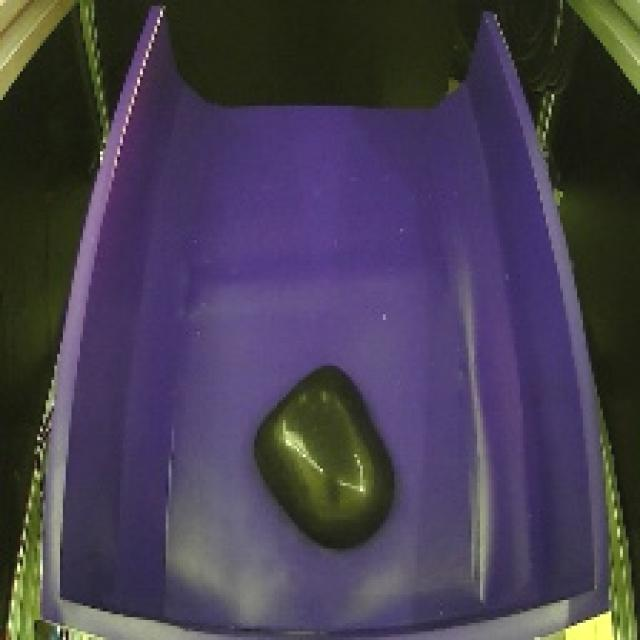cobbles: (248, 348, 404, 558)
